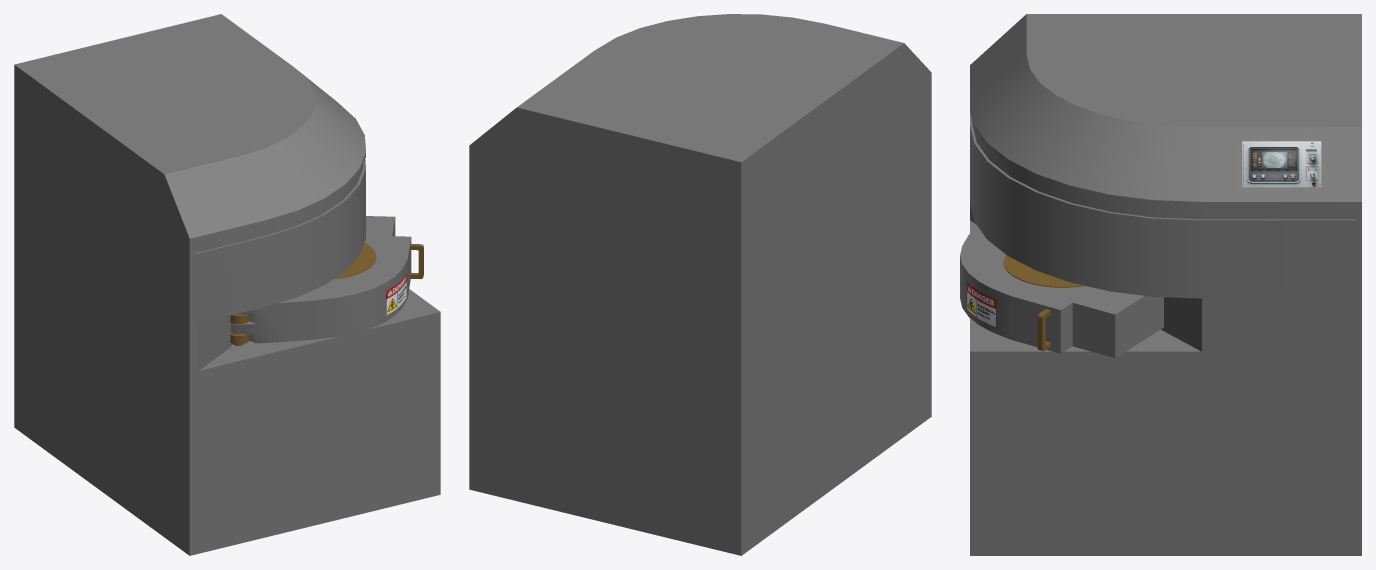
Rendered from GammaCellExactor.fbx.
3 renders of one model, left to right at view 1: azimuth 30°, elevation 25°; view 2: azimuth 150°, elevation 25°; view 3: azimuth 270°, elevation 25°, orthographic. The views are drawn at different scales.
Visible parts, largest first — view 1: propGammaCellExactor; view 2: propGammaCellExactor; view 3: propGammaCellExactor.
Part boxes in pixels (x1=…): propGammaCellExactor: x1=14, y1=14, x2=440, y2=555; propGammaCellExactor: x1=469, y1=14, x2=931, y2=555; propGammaCellExactor: x1=960, y1=14, x2=1361, y2=555.
Bounding box in the file's own units: 127 × 163 × 147.
Materials: 5 (2 with a texture image).
